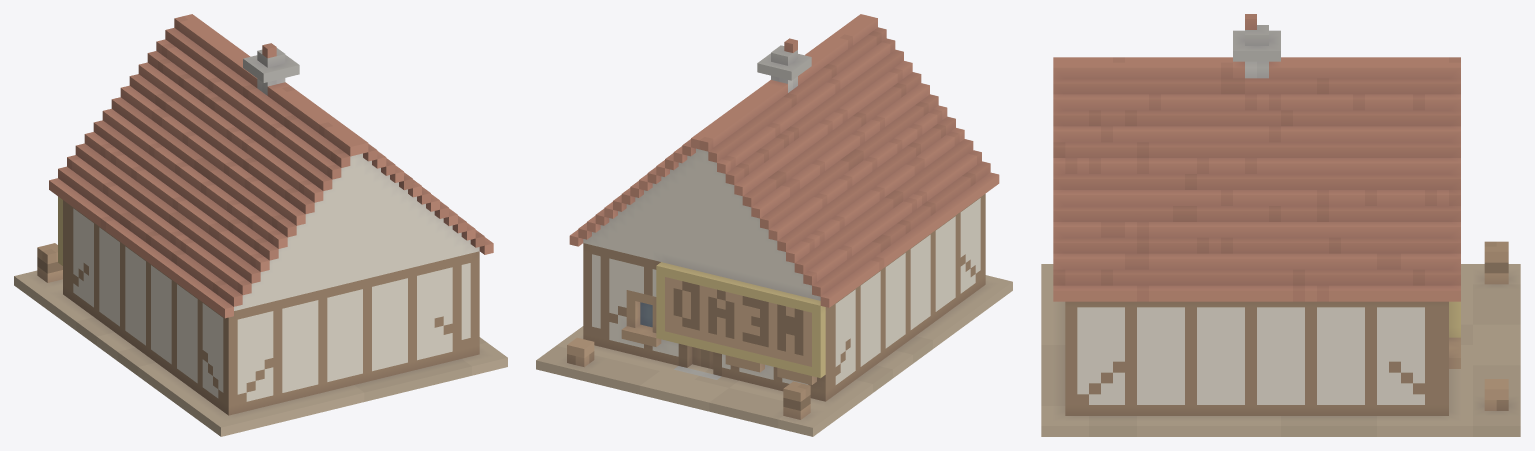
Rendered from meadery.glb.
3 views of the same model, side by side, from view 1: azimuth 30°, elevation 25°; view 2: azimuth 150°, elevation 25°; view 3: azimuth 270°, elevation 25° (orthographic). The views are drawn at different scales.
Visible parts, largest first — view 1: meadery; view 2: meadery; view 3: meadery.
Boxes of the visible parts, x1,y1,x2,y2 form: meadery: (14,14,507,436); meadery: (536,14,1012,436); meadery: (1041,14,1520,436).
Bounding box in the file's own units: 4 × 3.88 × 5.
